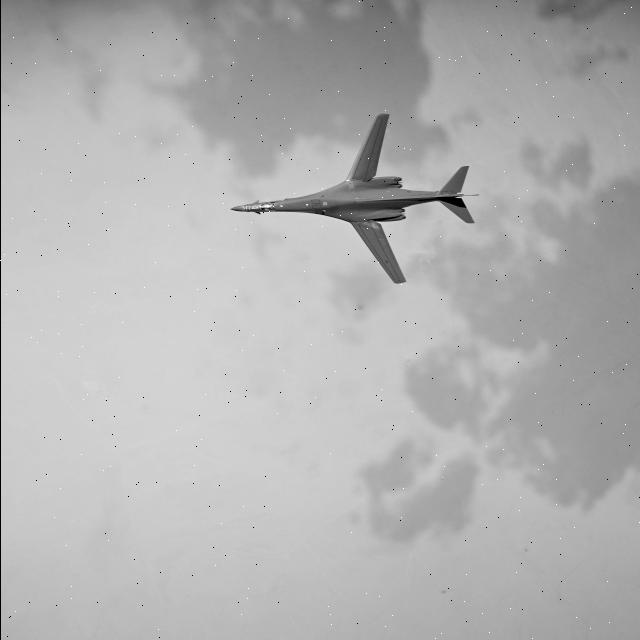B1: (228, 102, 510, 302)
